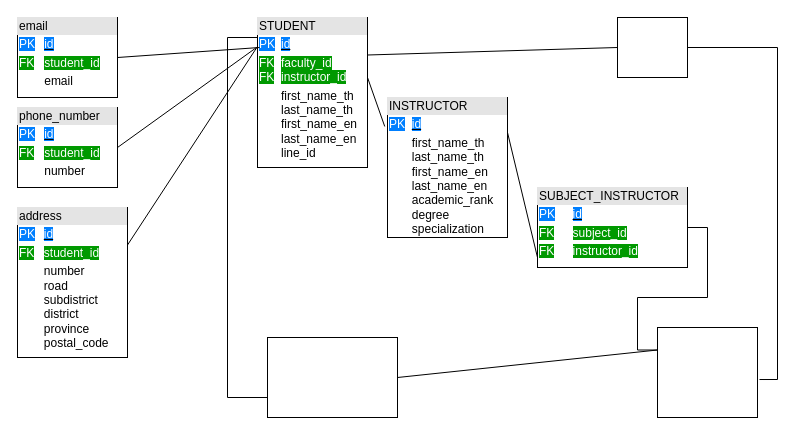
This 796x435 diagram has some shape labels left out. The box of each missing label's shape, as (x1, y1, x2, y2) in pixels:
FACULTY PK id name: (616, 16, 688, 78)
SUBJECT PK id FK faculty_id name credit: (656, 326, 758, 418)
SUBJECT_STUDENT PK id FK subject_id FK student_id: (266, 336, 398, 418)
